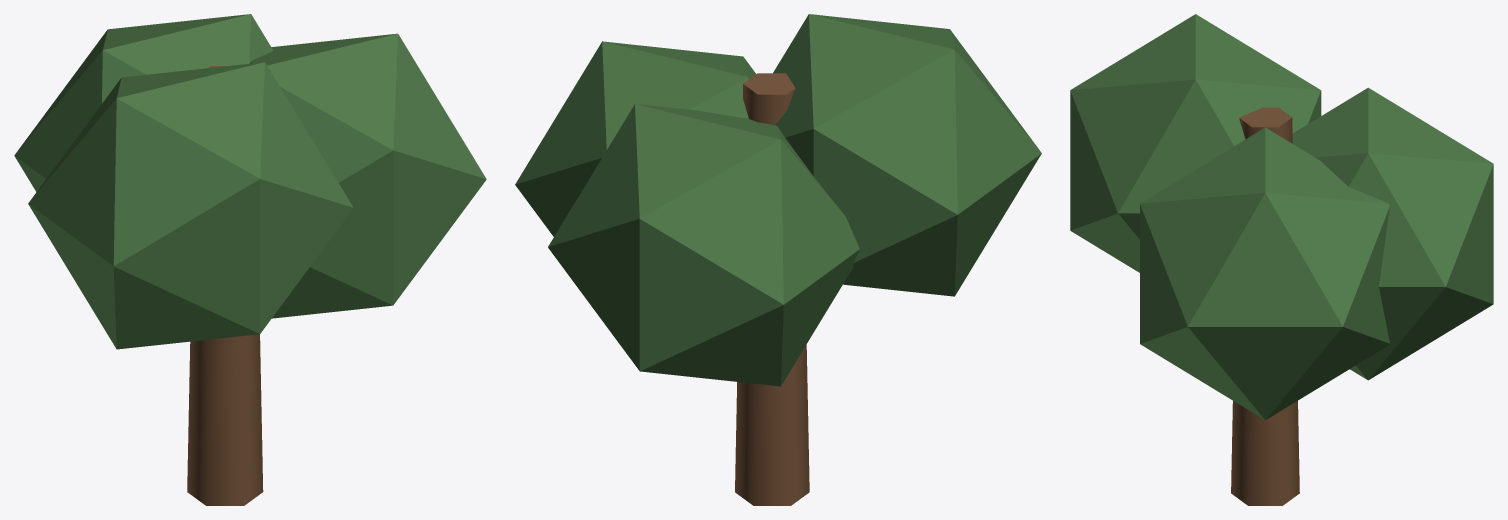
The model's file is crop-apple-tree-stage-2-young-tree.source.glb.
3 views of the same model, side by side, from view 1: azimuth 30°, elevation 25°; view 2: azimuth 150°, elevation 25°; view 3: azimuth 270°, elevation 25° (orthographic). The views are drawn at different scales.
Parts seen in each view (by area): view 1: canopy-2, canopy-1, canopy-3, trunk; view 2: canopy-3, canopy-2, canopy-1, trunk; view 3: canopy-1, canopy-2, canopy-3, trunk.
Part boxes in pixels (x1,y1,x2,y2): canopy-2: (28, 62, 353, 349); canopy-1: (250, 33, 486, 318); canopy-3: (14, 14, 273, 191); trunk: (187, 66, 263, 505); canopy-3: (548, 104, 859, 386); canopy-2: (773, 14, 1041, 296); canopy-1: (515, 41, 755, 236); trunk: (735, 73, 809, 505); canopy-1: (1140, 127, 1389, 420); canopy-2: (1070, 14, 1321, 272); canopy-3: (1292, 87, 1493, 380); trunk: (1231, 107, 1299, 505).
Size of the model in its own units: 1.4 by 1.49 by 1.38.
